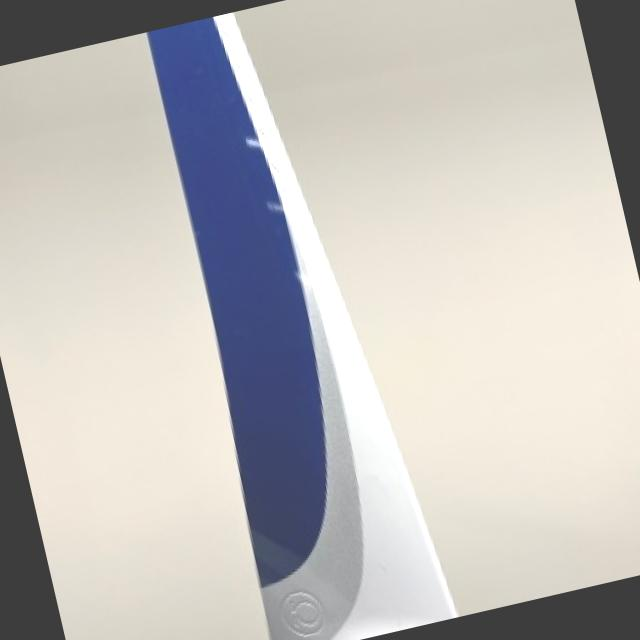healthy: (146, 13, 454, 640)
